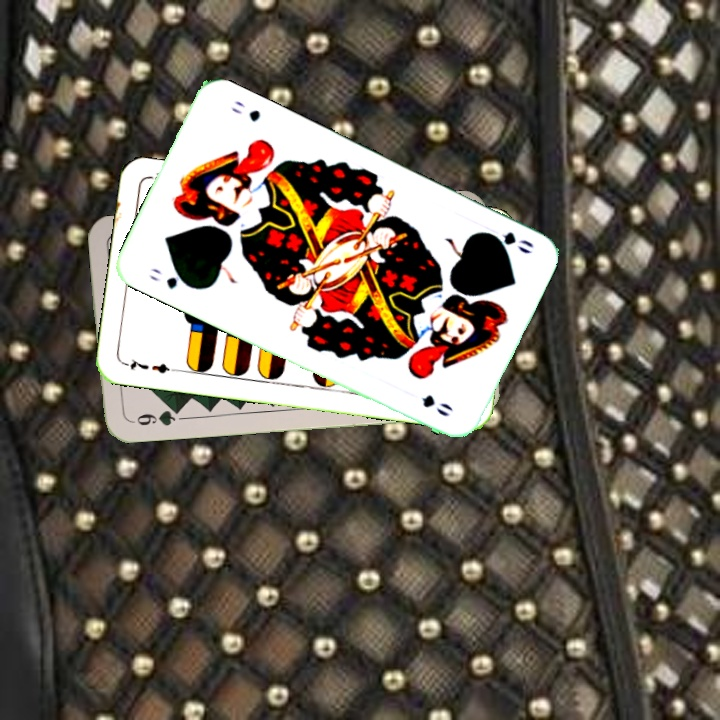E7: (120, 354, 179, 376)
G9: (125, 404, 184, 429)
GO: (478, 227, 536, 257), (145, 263, 196, 292)
